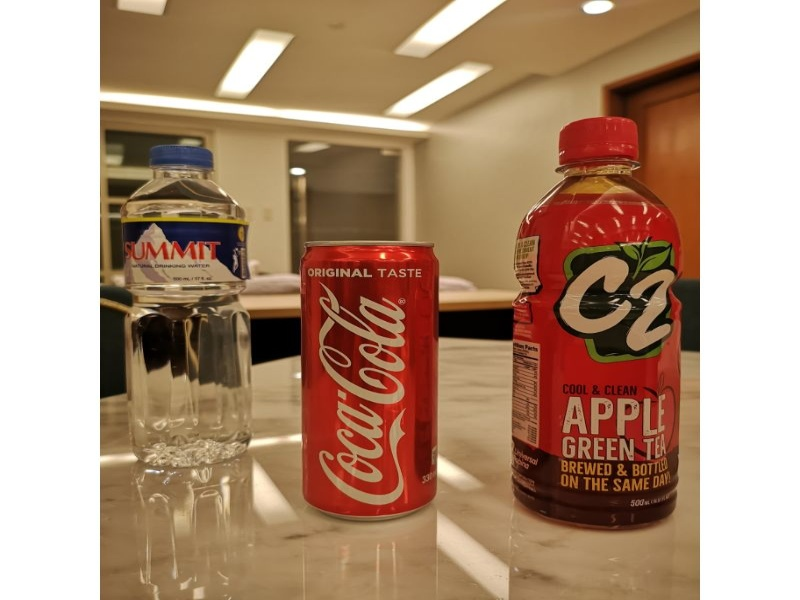PET #1: (507, 114, 684, 532), (115, 141, 259, 471)
